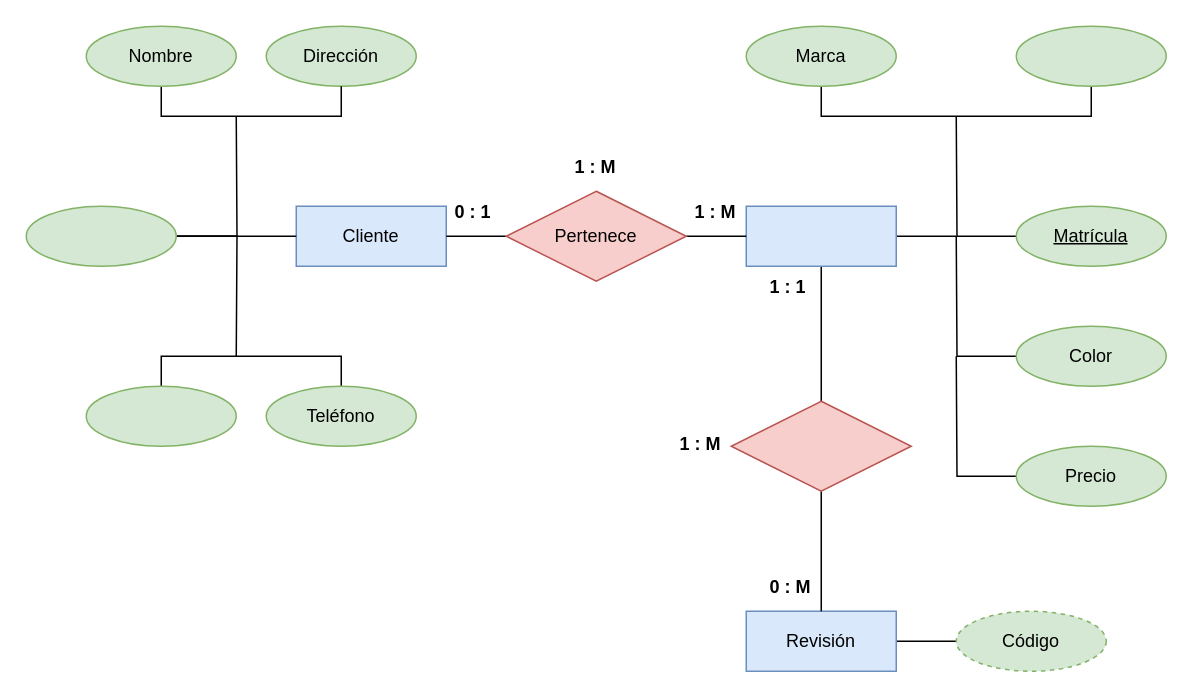
Some shapes in this 1193 by 698 pixel diagram are drawn without their labels. Each missing label, with the centre of its shape:
Ciudad: (x=160, y=415)
Coche: (x=820, y=235)
Modelo: (x=1090, y=55)
NIF: (x=100, y=235)
Realizar: (x=820, y=445)
